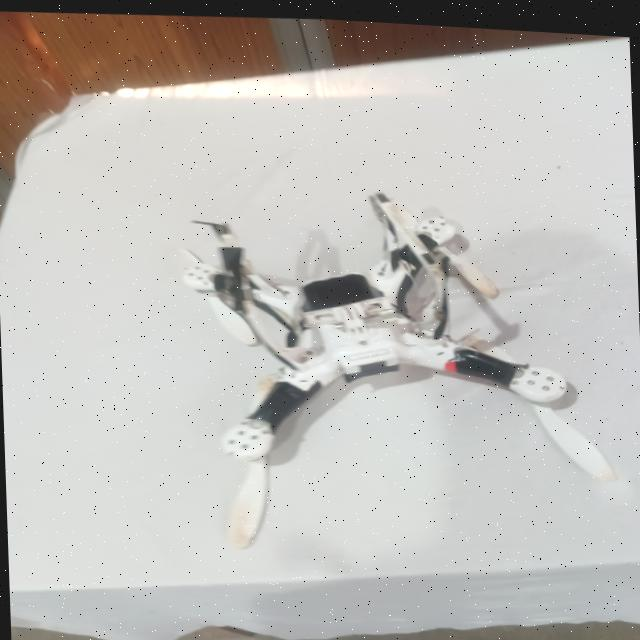drone: (115, 164, 621, 510)
